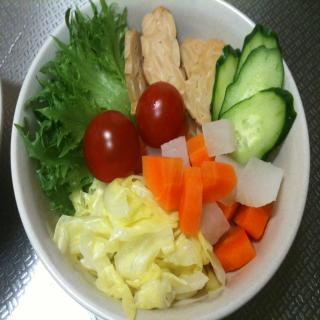Cucumber: (220, 86, 291, 158), (218, 44, 285, 118), (233, 23, 280, 79), (211, 42, 241, 121)
Salad: (14, 0, 298, 320)
Tomato: (82, 110, 136, 184), (135, 78, 184, 150)
